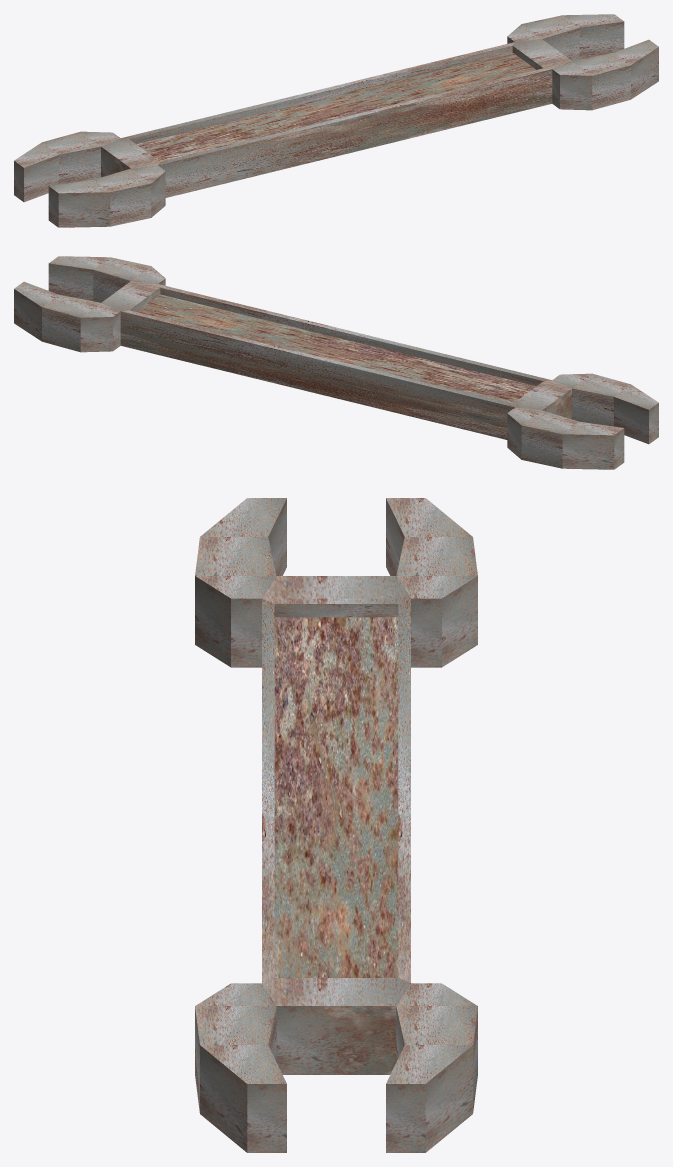
Rendered from wrench.fbx.
3 views of the same model, one above another, from view 1: azimuth 30°, elevation 25°; view 2: azimuth 150°, elevation 25°; view 3: azimuth 270°, elevation 25° (orthographic). The views are drawn at different scales.
Parts seen in each view (by area): view 1: wrench; view 2: wrench; view 3: wrench.
Part boxes in pixels (x1,y1,x2,y2): wrench: (14, 14, 658, 227); wrench: (14, 256, 658, 469); wrench: (195, 498, 477, 1152).
Bounding box in the file's own units: 273 × 15.01 × 55.76.
Materials: 1 (1 with a texture image).
